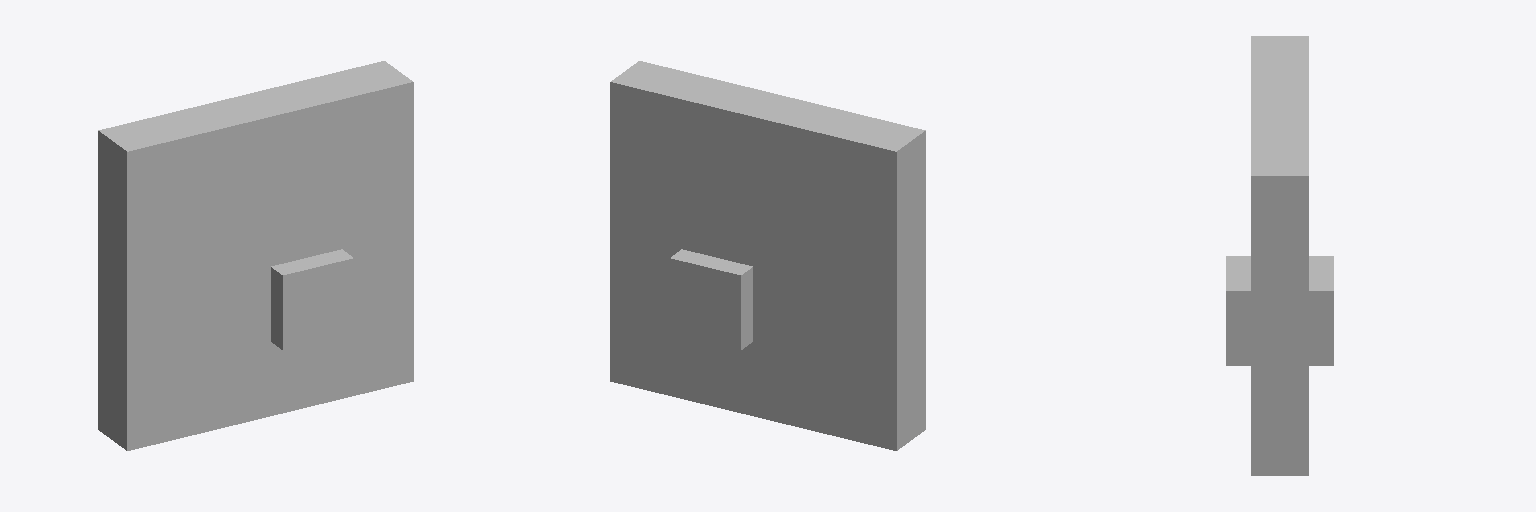
Rendered from door.obj.
The picture shows the model from 3 angles: view 1: azimuth 30°, elevation 25°; view 2: azimuth 150°, elevation 25°; view 3: azimuth 270°, elevation 25°; orthographic projection.
Size of the model in its own units: 1 by 1 by 0.3241.